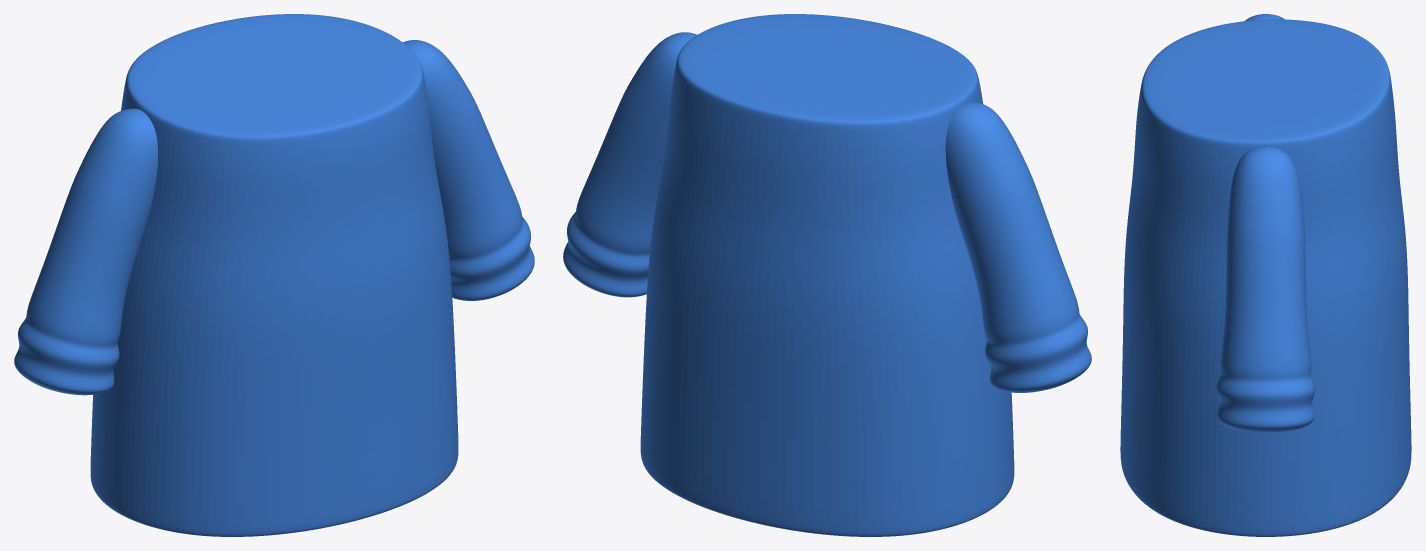
File: CAMISETA_5_H.glb
3 views of the same model, side by side, from view 1: azimuth 30°, elevation 25°; view 2: azimuth 150°, elevation 25°; view 3: azimuth 270°, elevation 25° (orthographic). The views are drawn at different scales.
Parts seen in each view (by area): view 1: Cube.088, Cube.100; view 2: Cube.088, Cube.100; view 3: Cube.088, Cube.100.
Part boxes in pixels (x1,y1,x2,y2): Cube.088: (90,14,458,536); Cube.100: (14,40,534,395); Cube.088: (640,14,1014,536); Cube.100: (563,32,1091,392); Cube.088: (1120,19,1411,536); Cube.100: (1216,14,1315,432).
Size of the model in its own units: 3.26 by 2.47 by 1.68.
